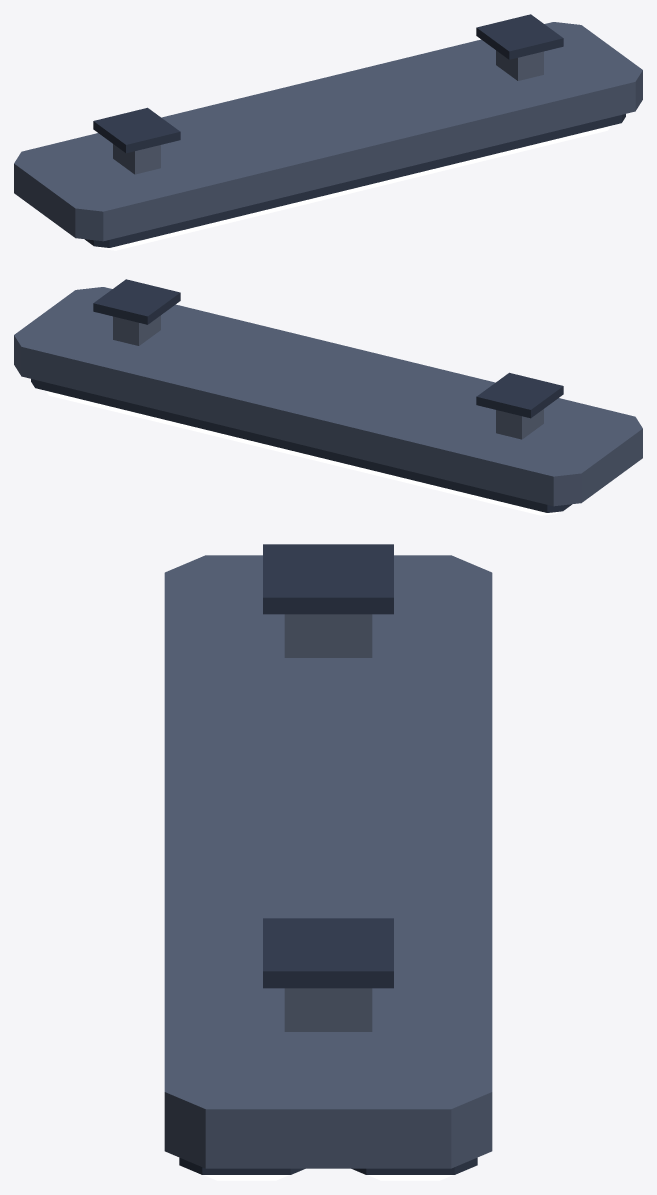
The model's file is lab_ceiling_strip.glb.
The picture shows the model from 3 angles, top to bottom: view 1: azimuth 30°, elevation 25°; view 2: azimuth 150°, elevation 25°; view 3: azimuth 270°, elevation 25°; orthographic projection. The views are drawn at different scales.
Parts seen in each view (by area): view 1: washdown_case, lens_gasket, opal_lens, suspension; view 2: washdown_case, lens_gasket, opal_lens, suspension; view 3: washdown_case, lens_gasket, suspension, opal_lens.
Part boxes in pixels (x1,y1,x2,y2): washdown_case: (14,22,642,241); lens_gasket: (85,14,625,247); opal_lens: (99,126,610,250); suspension: (113,50,543,174); washdown_case: (14,287,642,506); lens_gasket: (31,279,571,512); opal_lens: (46,391,557,515); suspension: (113,315,543,439); washdown_case: (164,555,492,1168); lens_gasket: (179,544,477,1174); suspension: (284,614,372,1031); opal_lens: (204,1175,452,1180).
Bounding box in the file's own units: 2.4 × 0.35 × 0.6.
